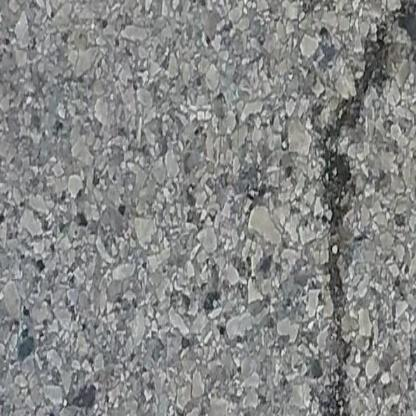Cracks: (319, 0, 416, 416)
